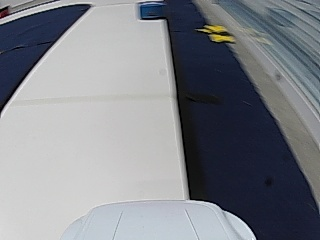prop: (140, 1, 166, 20)
